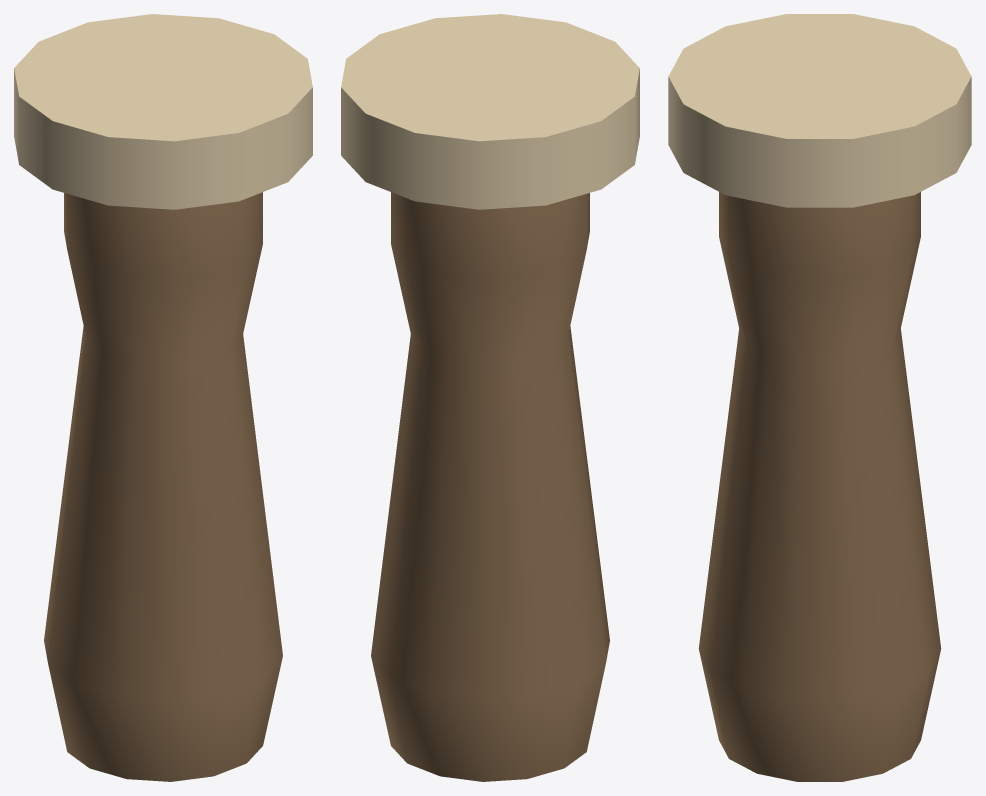
The model's file is marquetry-and-veneer-inlay-workshop-gothic-profile-rub-1c295460__39104.glb.
The picture shows the model from 3 angles, left to right: view 1: azimuth 30°, elevation 25°; view 2: azimuth 150°, elevation 25°; view 3: azimuth 270°, elevation 25°; orthographic projection.
Parts seen in each view (by area): view 1: gothic-profile-rubbing-stick; view 2: gothic-profile-rubbing-stick; view 3: gothic-profile-rubbing-stick.
Boxes of the visible parts, x1,y1,x2,y2 form: gothic-profile-rubbing-stick: (14, 14, 312, 781); gothic-profile-rubbing-stick: (341, 14, 639, 781); gothic-profile-rubbing-stick: (668, 14, 971, 781).
Size of the model in its own units: 0.0585 by 0.145 by 0.06.
